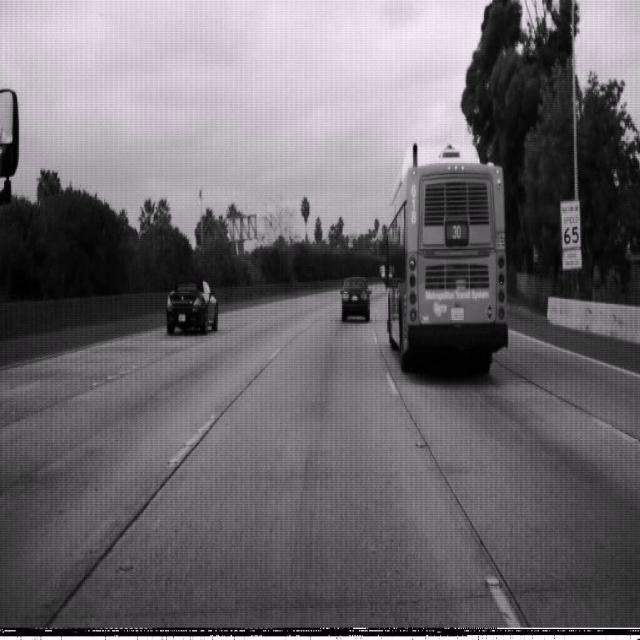speedLimit65: (560, 199, 582, 251)
